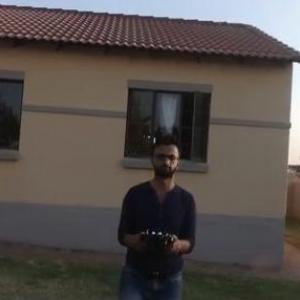follow: (111, 126, 199, 299)
